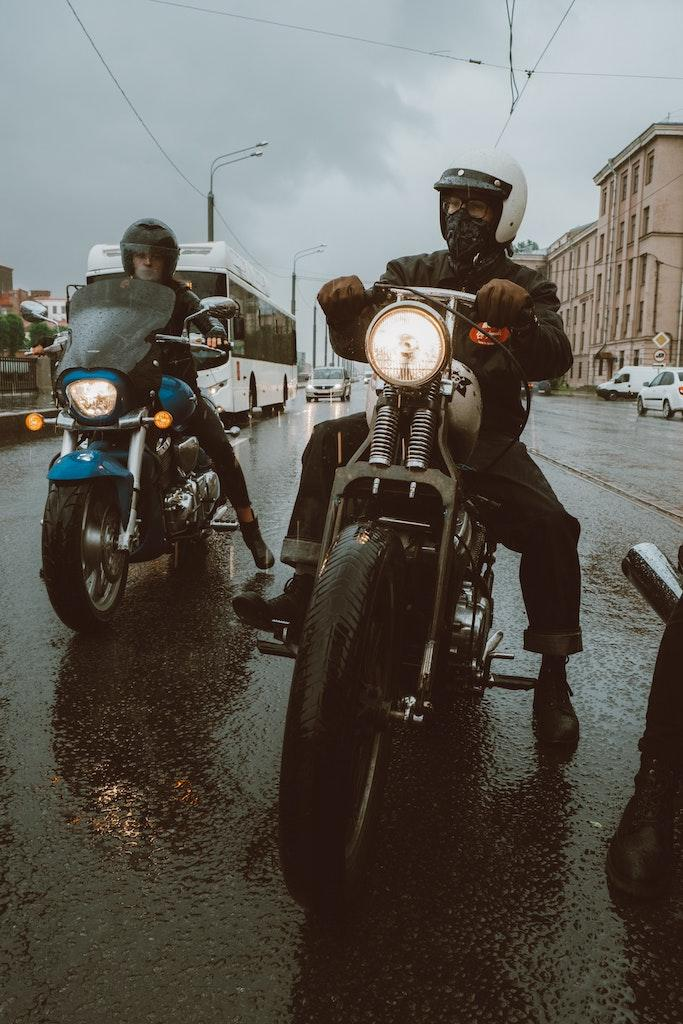helmet: (433, 144, 528, 269), (119, 216, 181, 297)
